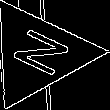N_SE: (2, 25, 74, 83)
